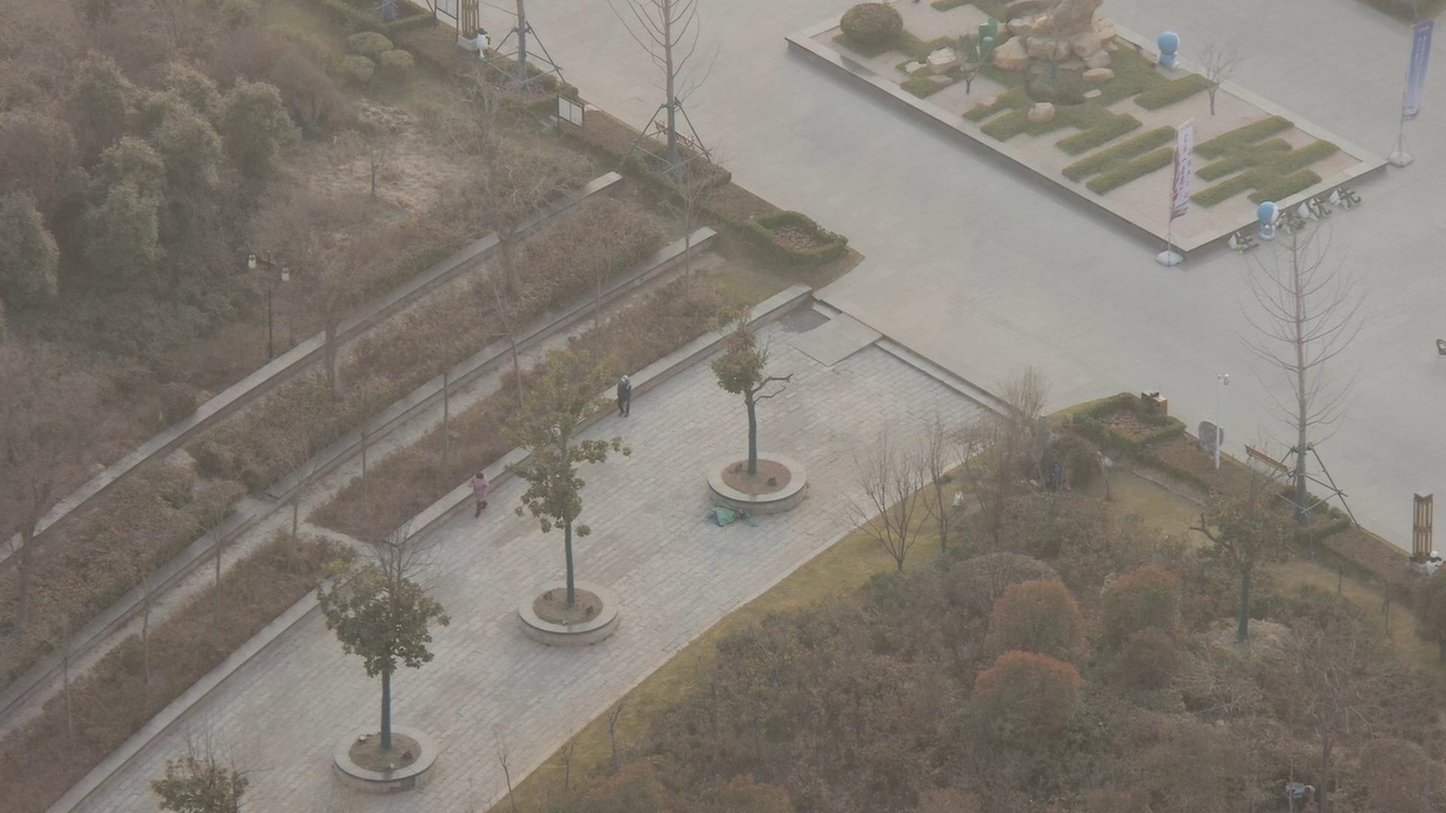human: (471, 449, 502, 522), (617, 368, 639, 420)
